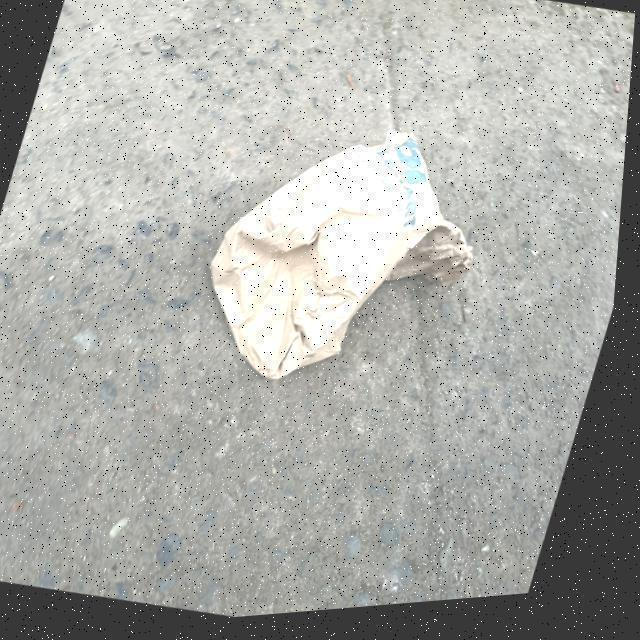Paper_Bag: (184, 102, 506, 428)
